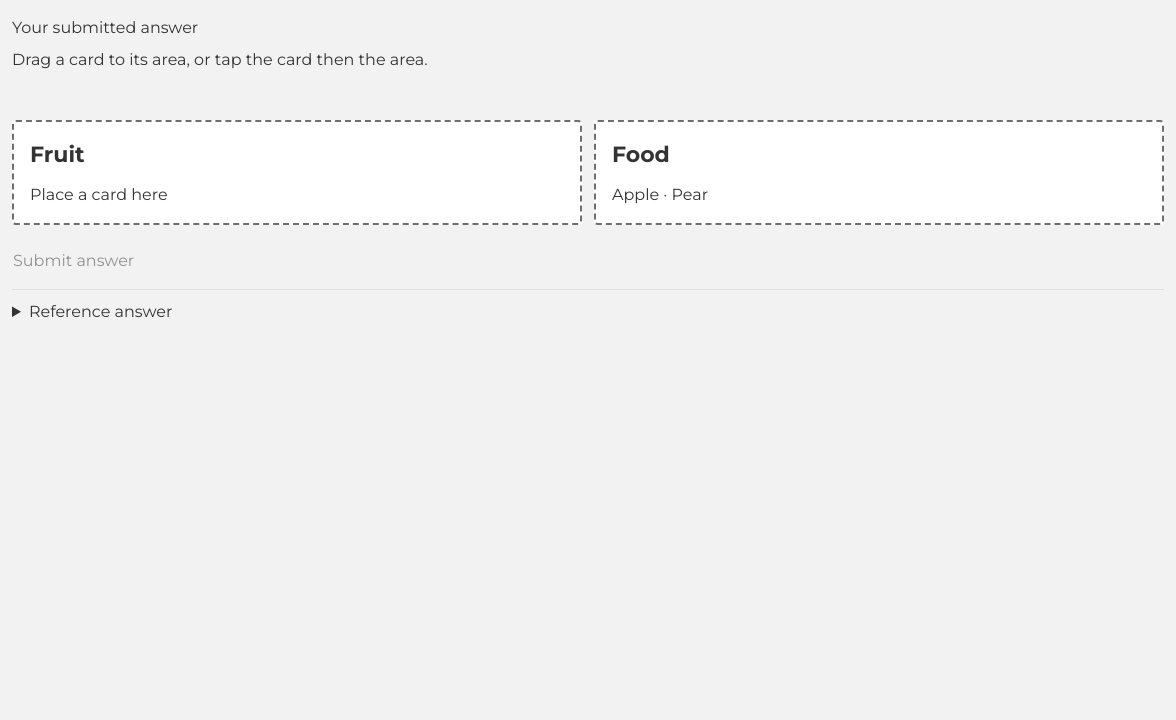
restores the actual grouping response and places the reference in separately labelled feedback
Expected: the button "Food Apple · Pear" is shown, x1=594 y1=120 x2=1164 y2=225
Expected: the button "Fruit" does not show "Apple"
What coordinates should you click on to do the following:
click the heading "Reference answer"
I would click on:
 (101, 312)
Its box is x1=29 y1=302 x2=172 y2=321.
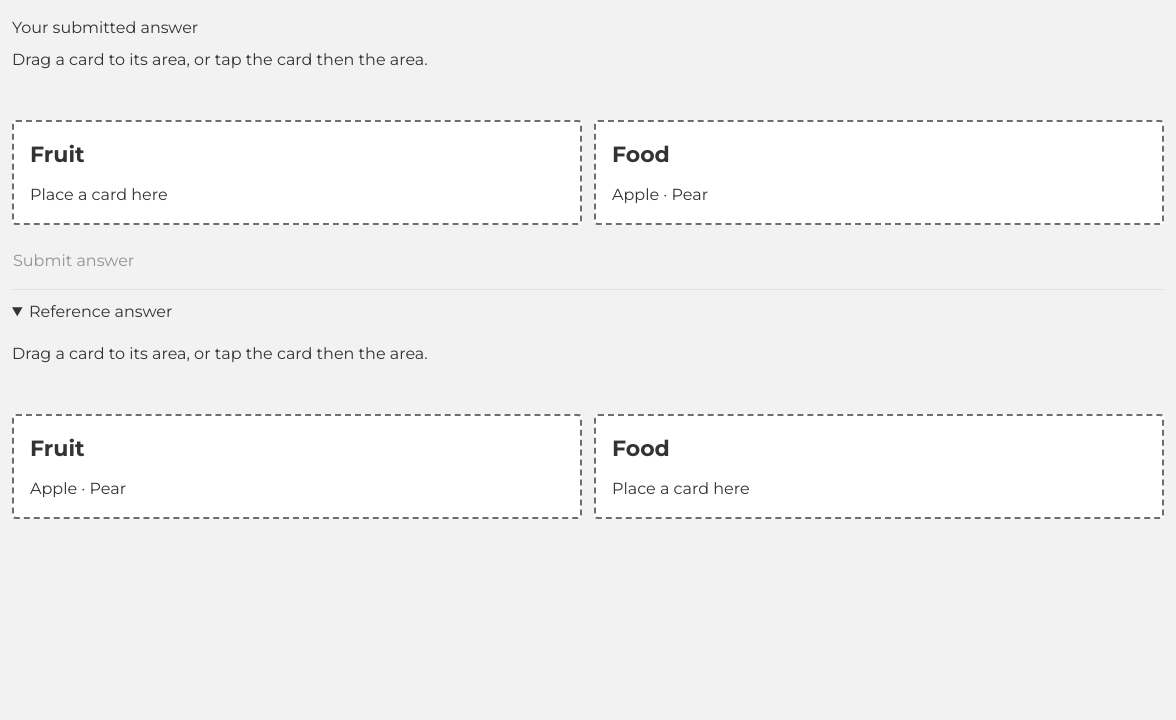
Expected: the button "Food Apple · Pear" is shown, x1=594 y1=120 x2=1164 y2=225
Expected: the button "Fruit Apple · Pear" is shown, x1=12 y1=414 x2=582 y2=519
